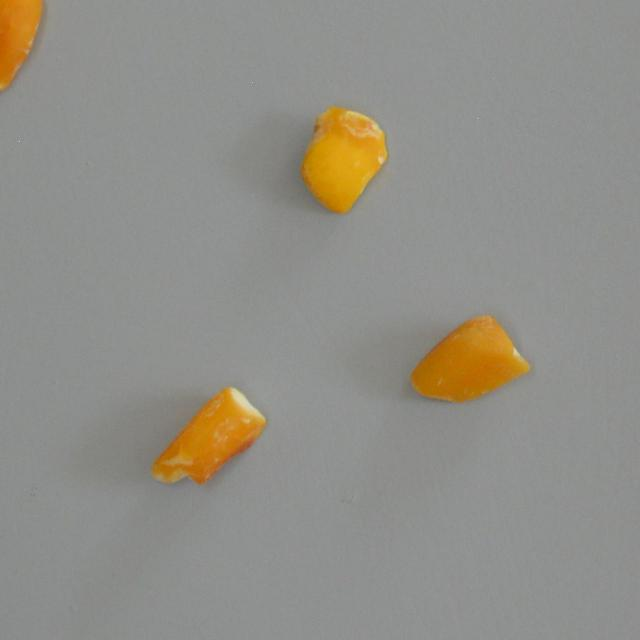dañado: (146, 376, 273, 494), (405, 306, 535, 410), (296, 96, 390, 224), (0, 0, 48, 100)
